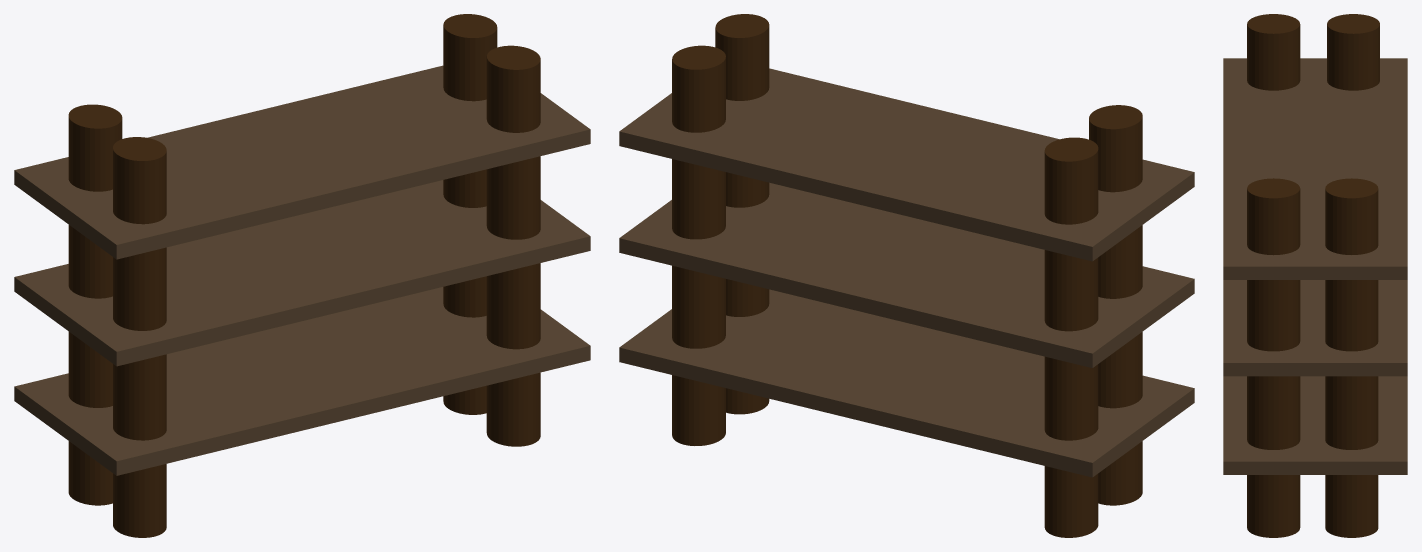
The model's file is My Shelf.fbx.
3 renders of one model, left to right at view 1: azimuth 30°, elevation 25°; view 2: azimuth 150°, elevation 25°; view 3: azimuth 270°, elevation 25°, orthographic. The views are drawn at different scales.
Parts seen in each view (by area): view 1: Cylinder.005; view 2: Cylinder.005; view 3: Cylinder.005.
Boxes of the visible parts, x1,y1,x2,y2 form: Cylinder.005: [14, 14, 590, 537]; Cylinder.005: [619, 14, 1194, 537]; Cylinder.005: [1223, 14, 1407, 537].
Bounding box in the file's own units: 369 × 280 × 138.
